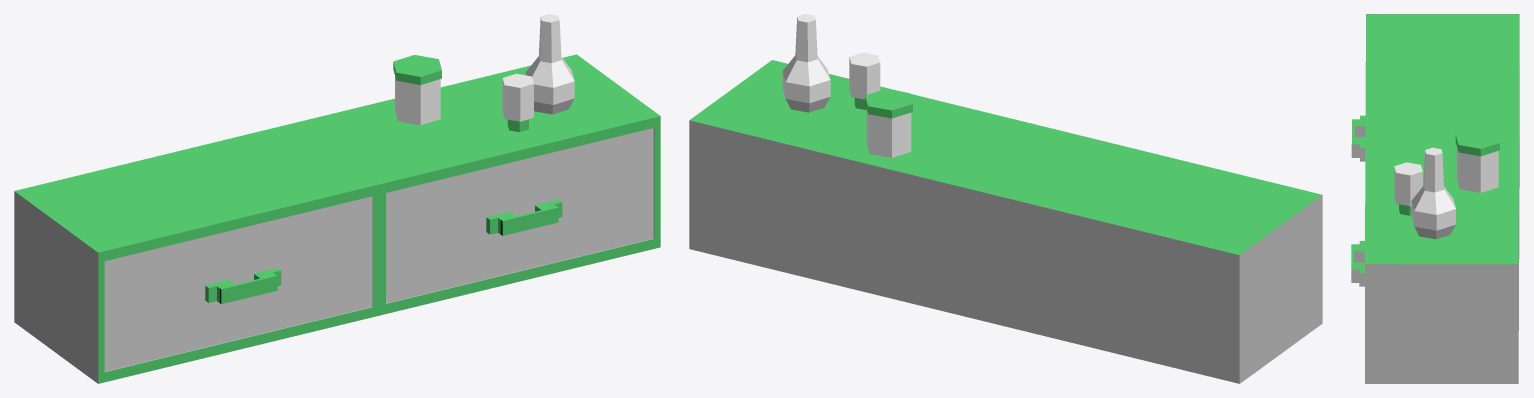
File: y_komodin.obj
3 views of the same model, side by side, from view 1: azimuth 30°, elevation 25°; view 2: azimuth 150°, elevation 25°; view 3: azimuth 270°, elevation 25° (orthographic). The views are drawn at different scales.
Parts seen in each view (by area): view 1: body_care_products.013_m_beyaz, body_care_products.013_m_yeşil, body_care_products.013_m_white; view 2: body_care_products.013_m_beyaz, body_care_products.013_m_yeşil, body_care_products.013_m_white; view 3: body_care_products.013_m_yeşil, body_care_products.013_m_beyaz, body_care_products.013_m_white.
Part boxes in pixels (x1,y1,x2,y2): body_care_products.013_m_beyaz: (14,128,654,383); body_care_products.013_m_yeşil: (14,54,660,383); body_care_products.013_m_white: (395,14,574,125); body_care_products.013_m_beyaz: (689,120,1322,383); body_care_products.013_m_yeşil: (690,60,1322,255); body_care_products.013_m_white: (782,14,911,157); body_care_products.013_m_yeşil: (1351,14,1519,272); body_care_products.013_m_beyaz: (1351,68,1519,383); body_care_products.013_m_white: (1394,147,1498,239).
Bounding box in the file's own units: 32.24 × 12.01 × 9.17.
